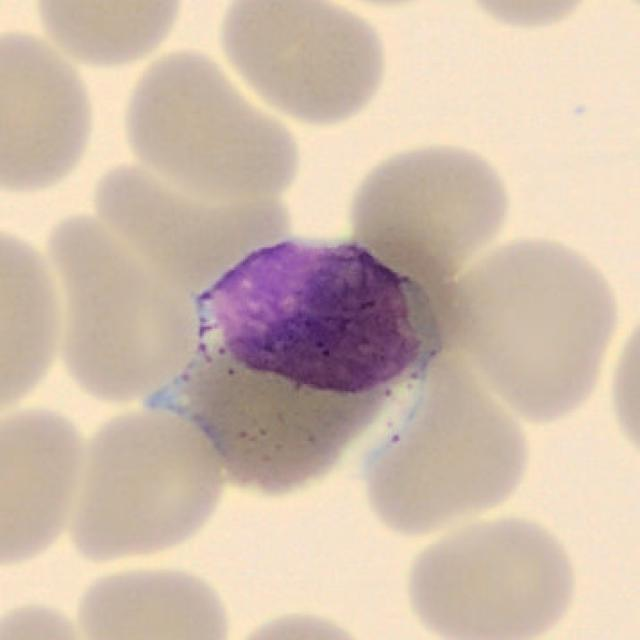Linfocito atipico: (152, 242, 440, 496)
